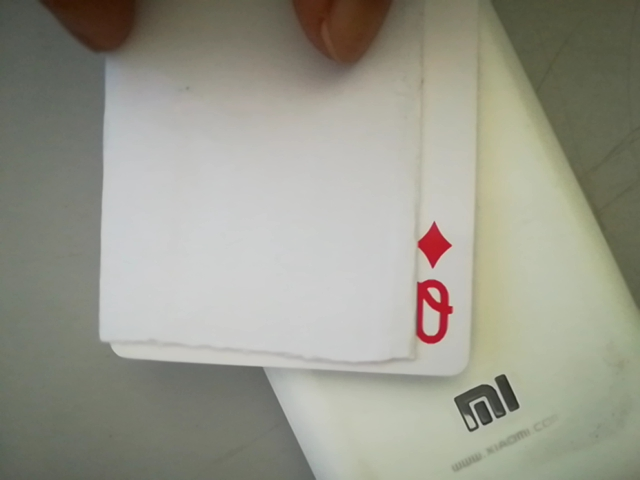fk q: (406, 218, 466, 358)
